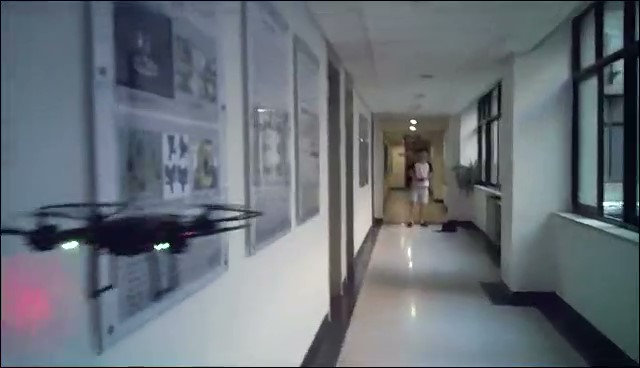drone: (1, 199, 266, 304)
person: (404, 147, 433, 227)
